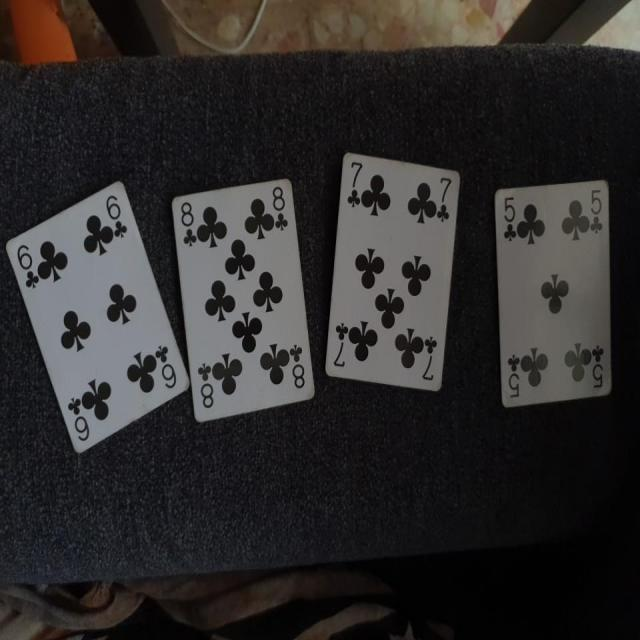5 of clubs: (494, 179, 616, 409)
6 of clubs: (3, 180, 190, 457)
7 of clubs: (324, 149, 462, 394)
8 of clubs: (169, 178, 316, 422)
